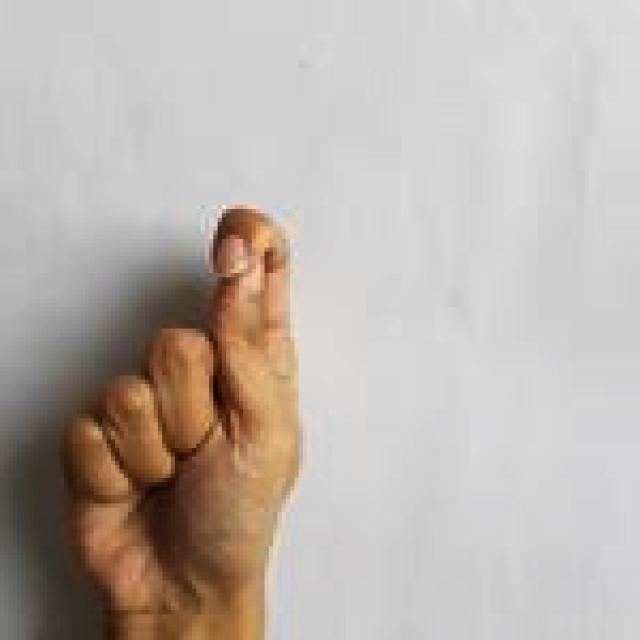T: (54, 198, 312, 640)
